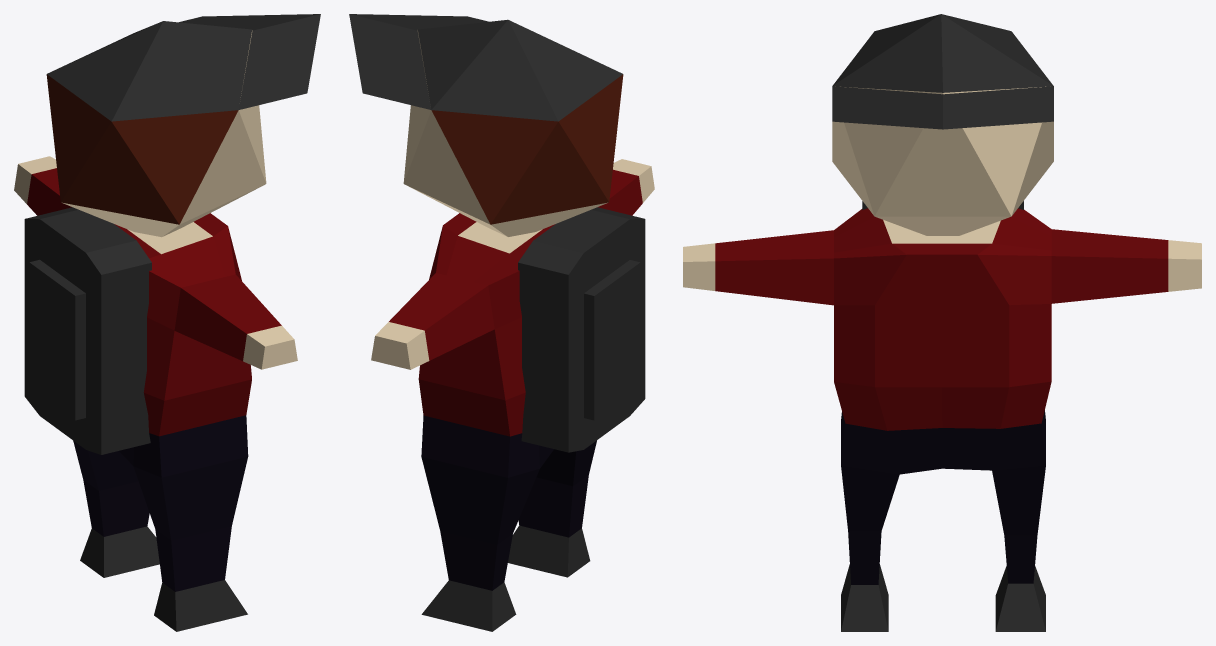
File: player.fbx
3 renders of one model, left to right at view 1: azimuth 30°, elevation 25°; view 2: azimuth 150°, elevation 25°; view 3: azimuth 270°, elevation 25°, orthographic. The views are drawn at different scales.
Parts seen in each view (by area): view 1: Cube; view 2: Cube; view 3: Cube.
Boxes of the visible parts, <box> form: Cube: <box>14,14,320,631</box>; Cube: <box>349,14,654,631</box>; Cube: <box>683,14,1201,631</box>.
Bounding box in the file's own units: 251 × 507 × 398.
